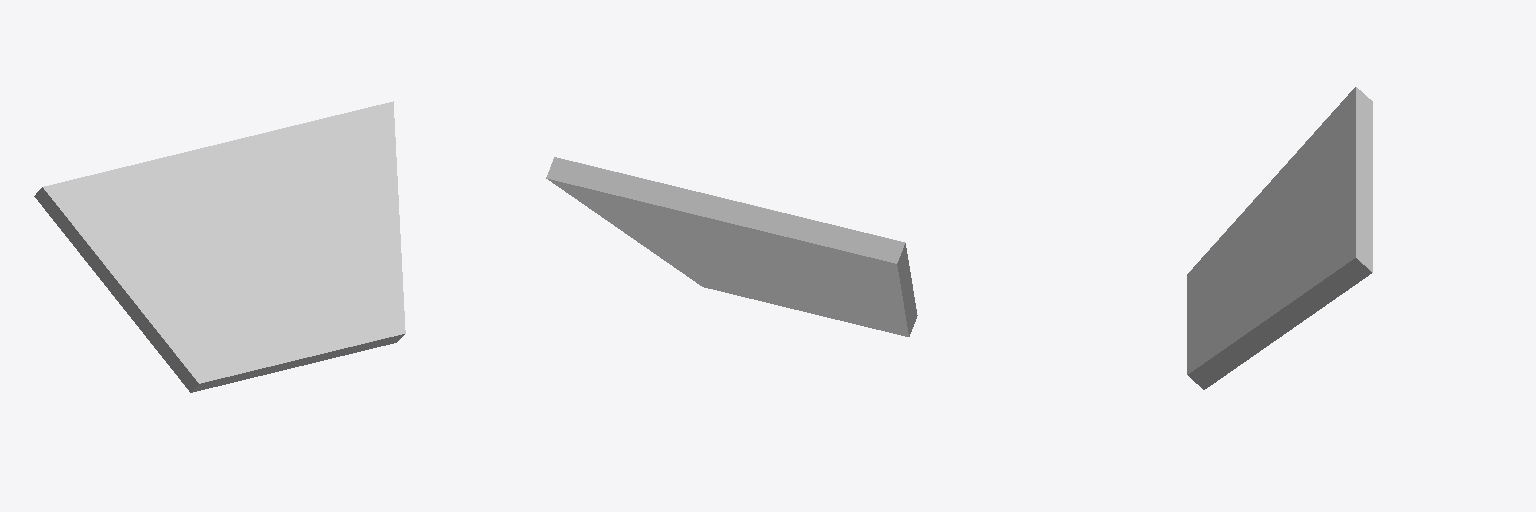
File: trapezoid-middle.obj
3 views of the same model, side by side, from view 1: azimuth 30°, elevation 25°; view 2: azimuth 150°, elevation 25°; view 3: azimuth 270°, elevation 25° (orthographic).
Visible parts, largest first — view 1: Inside_Trap_Cube.003, Trapaziod_Cube.001; view 2: Trapaziod_Cube.001, Inside_Trap_Cube.003; view 3: Inside_Trap_Cube.003, Trapaziod_Cube.001.
Boxes of the visible parts, x1=… form: Inside_Trap_Cube.003: x1=82, y1=130, x2=386, y2=359; Trapaziod_Cube.001: x1=34, y1=101, x2=405, y2=392; Trapaziod_Cube.001: x1=546, y1=157, x2=917, y2=336; Inside_Trap_Cube.003: x1=586, y1=195, x2=889, y2=325; Inside_Trap_Cube.003: x1=1204, y1=117, x2=1338, y2=354; Trapaziod_Cube.001: x1=1187, y1=87, x2=1372, y2=389.
Size of the model in its own units: 0.34 by 0.1556 by 0.1556.